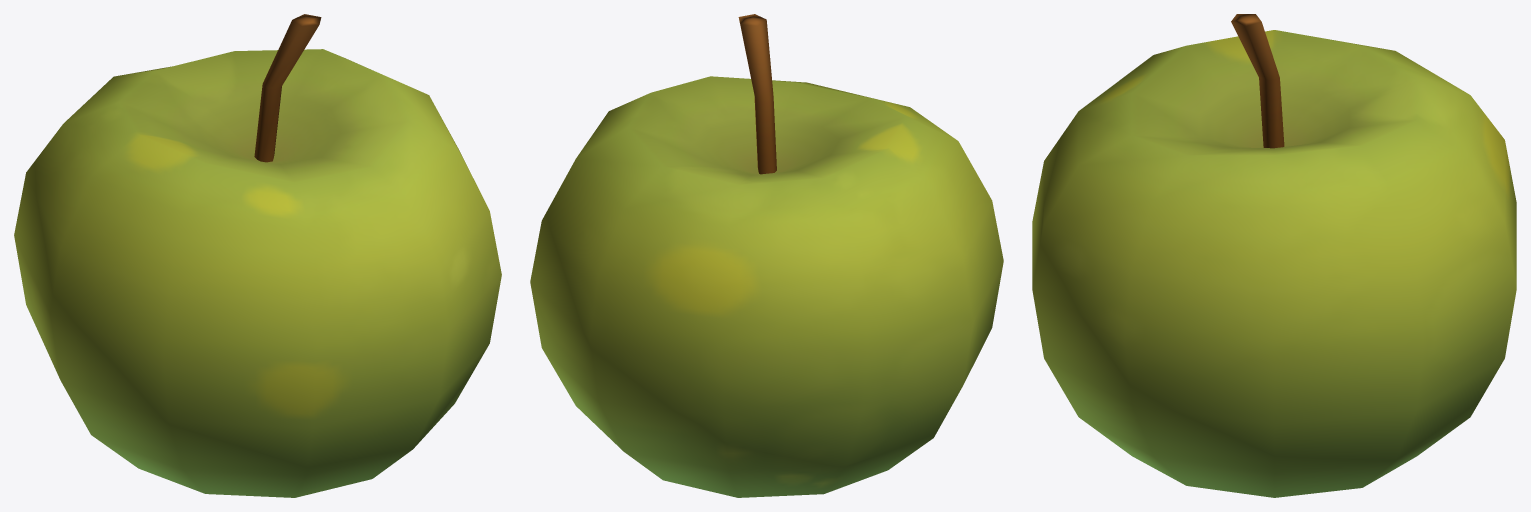
Rendered from apple_green.fbx.
3 views of the same model, side by side, from view 1: azimuth 30°, elevation 25°; view 2: azimuth 150°, elevation 25°; view 3: azimuth 270°, elevation 25° (orthographic). The views are drawn at different scales.
Parts seen in each view (by area): view 1: pSphere5; view 2: pSphere5; view 3: pSphere5.
Boxes of the visible parts, x1,y1,x2,y2 form: pSphere5: (14, 14, 501, 497); pSphere5: (530, 14, 1003, 497); pSphere5: (1032, 14, 1516, 497).
Size of the model in its own units: 2.1 by 2.13 by 2.04.
